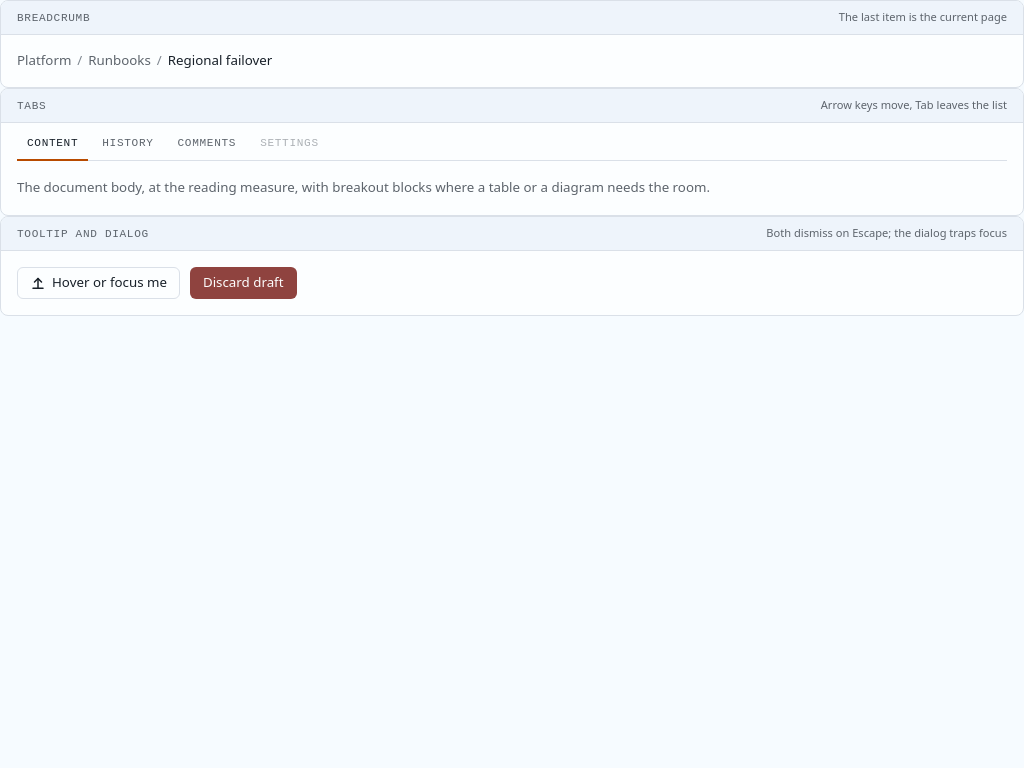
the navigation specimens › open the dialog, trap focus in it, and close it on Escape
The image size is (1024, 768).
Click the button "Discard draft" at (243, 283), box x1=190 y1=267 x2=296 y2=299
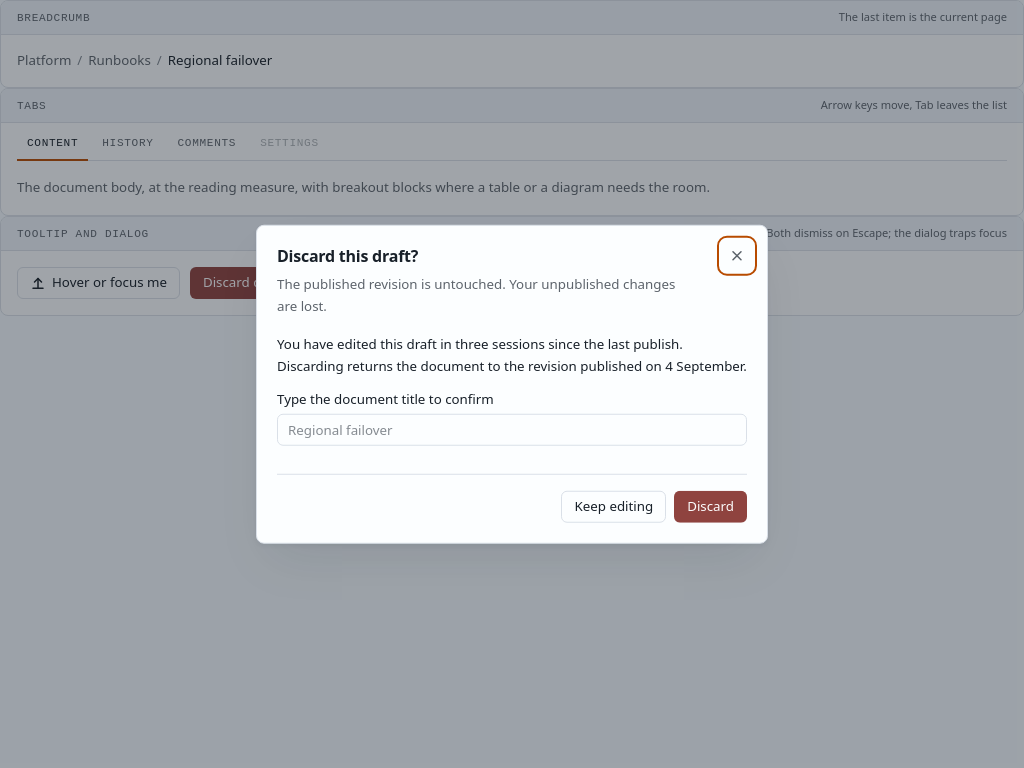
Press Escape
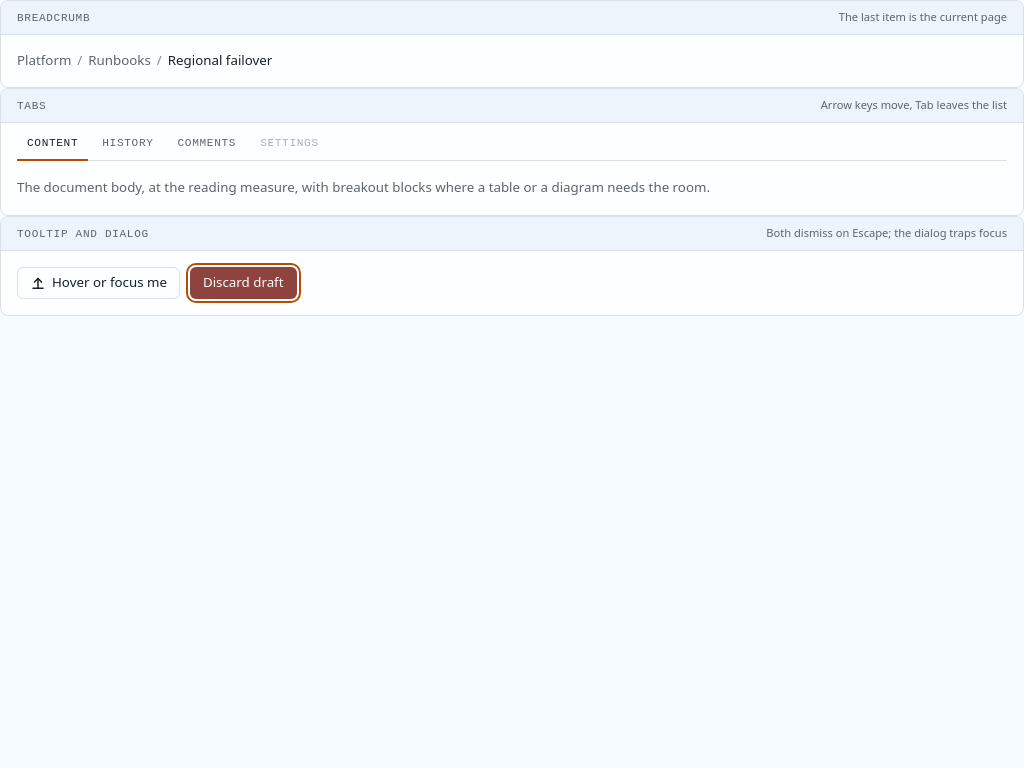
Expected: the heading "Discard this draft?" is gone
